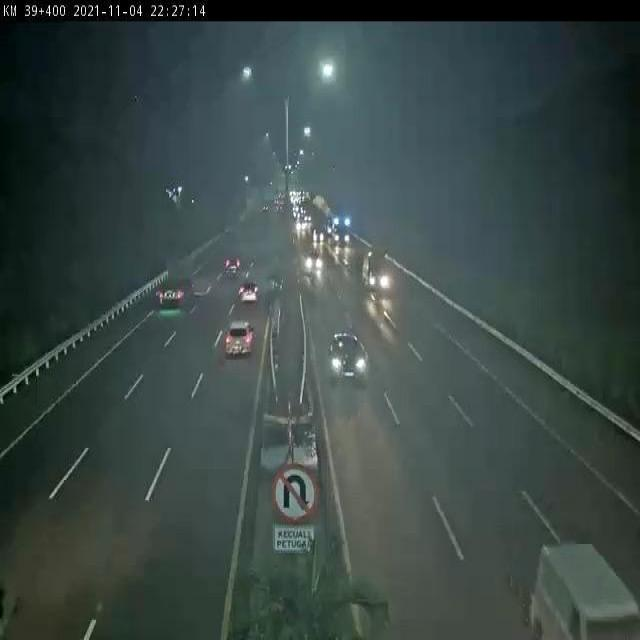car: (533, 541, 640, 640), (329, 332, 369, 383), (224, 320, 256, 356), (239, 280, 260, 304), (224, 257, 243, 275)
truck-m-: (154, 256, 194, 307), (362, 250, 391, 290)
